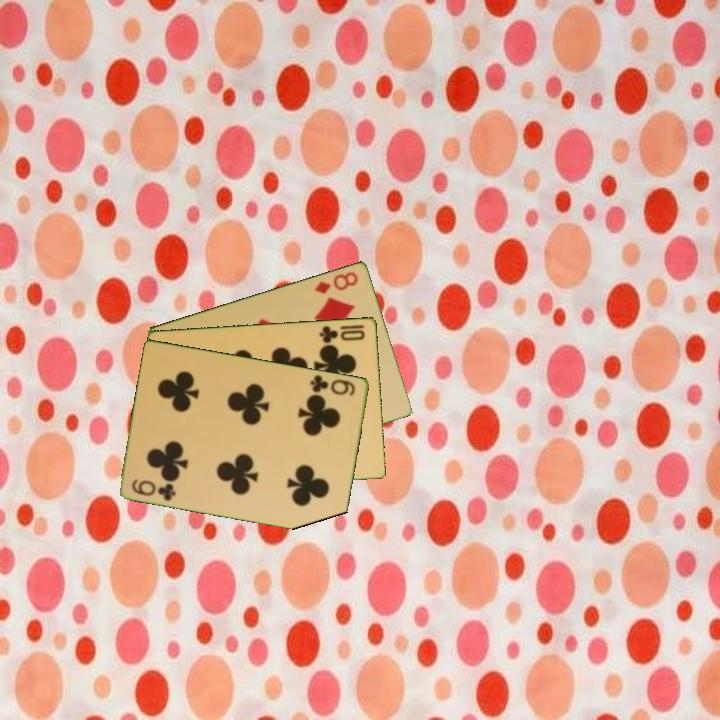10c: (316, 322, 368, 346)
6c: (307, 371, 359, 399), (129, 475, 179, 503)
8d: (311, 268, 361, 297)
